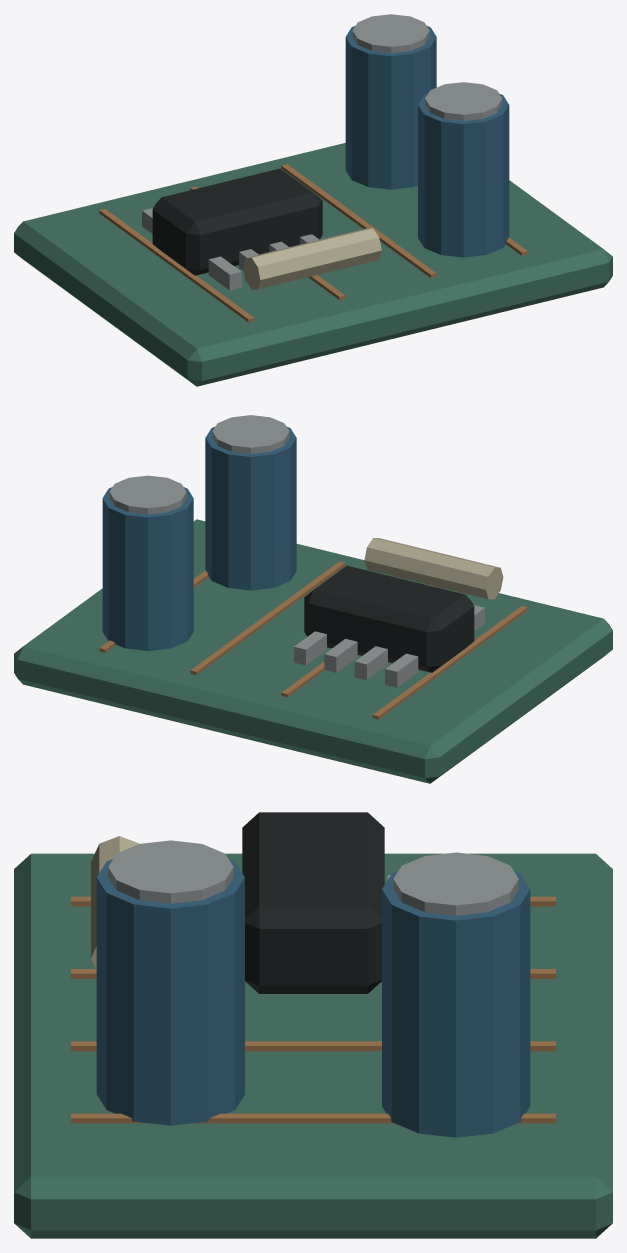
The model's file is loot_radio_part.glb.
3 renders of one model, top to bottom at view 1: azimuth 30°, elevation 25°; view 2: azimuth 150°, elevation 25°; view 3: azimuth 270°, elevation 25°, orthographic. The views are drawn at different scales.
Visible parts, largest first — view 1: loot_radio_part; view 2: loot_radio_part; view 3: loot_radio_part.
Part boxes in pixels (x1=…): loot_radio_part: x1=14, y1=14, x2=612, y2=386; loot_radio_part: x1=14, y1=415, x2=612, y2=783; loot_radio_part: x1=14, y1=812, x2=612, y2=1238.
Size of the model in its own units: 0.14 by 0.057 by 0.105.
